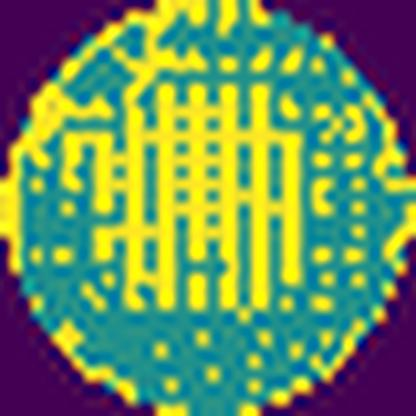Random: (0, 0, 349, 323)
